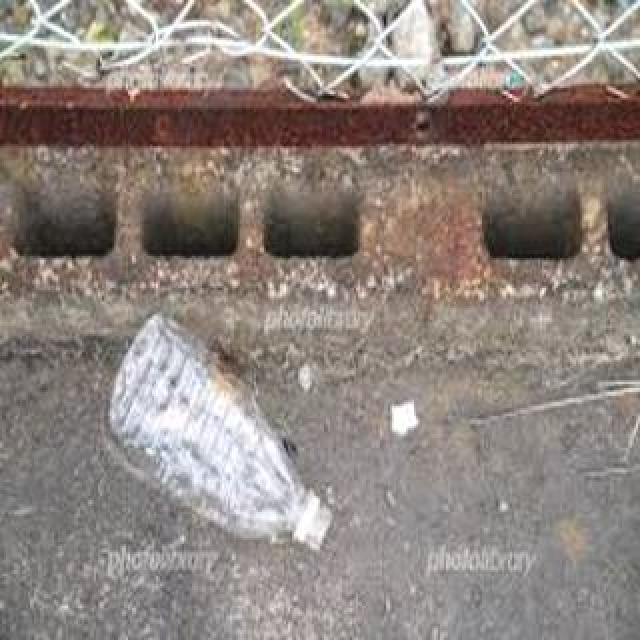Pet_Bottle: (102, 309, 340, 561)
